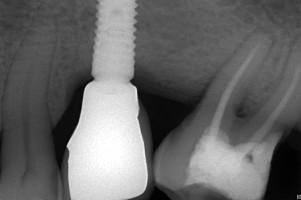Endo-Periodontal Lesion: (235, 98, 248, 118)
Furcation Involvement: (247, 25, 277, 46)
